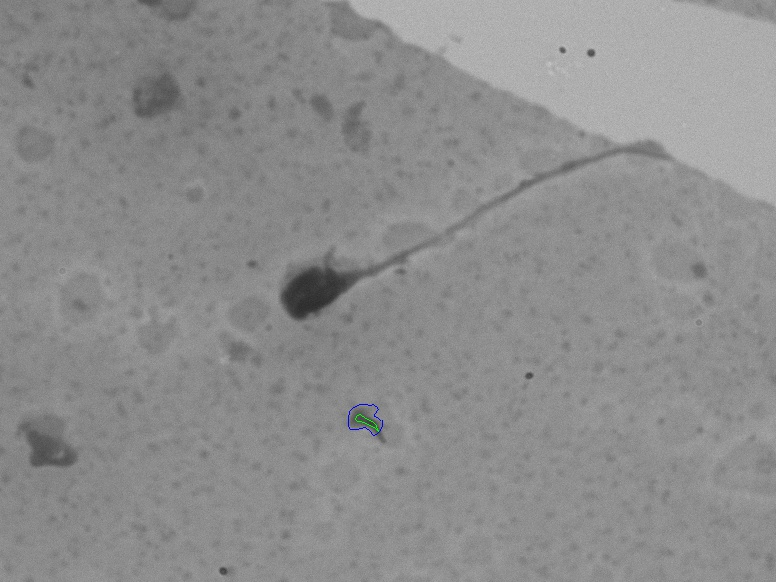Abnormal: (239, 86, 683, 328)
